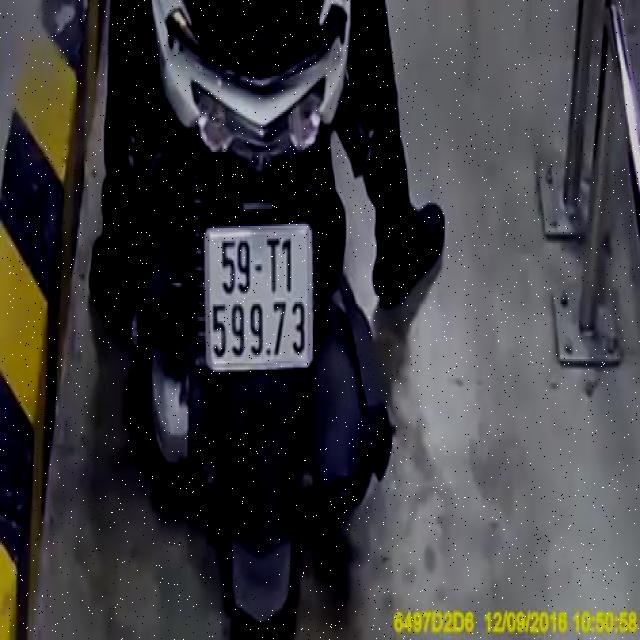1: (280, 236, 294, 294)
3: (290, 300, 309, 356)
5: (208, 298, 228, 359), (219, 236, 237, 293)
7: (272, 301, 287, 353)
9: (230, 300, 246, 360), (248, 300, 264, 357), (237, 236, 252, 296)
T: (265, 236, 281, 292)
